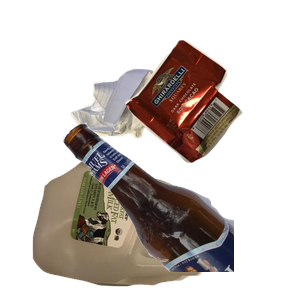glass: (60, 120, 300, 300)
paper: (68, 66, 215, 197)
plastic: (30, 159, 247, 300)
trash: (123, 37, 300, 192)
